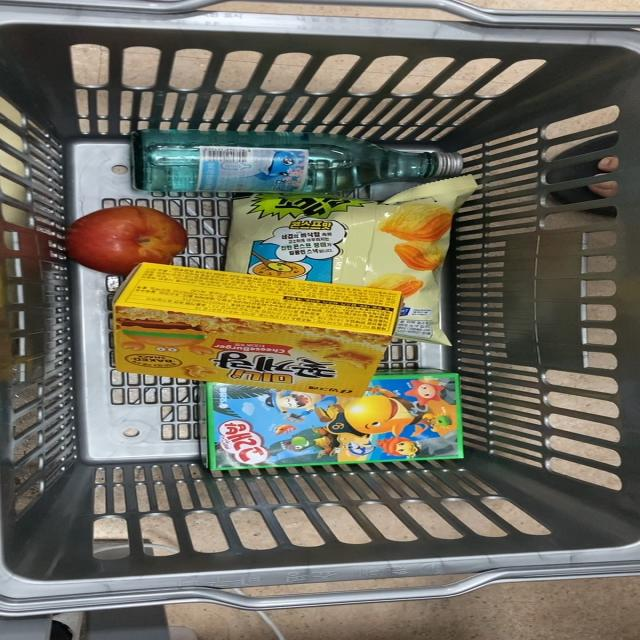ggobukchip: (223, 196, 466, 274)
goraebob: (206, 376, 470, 468)
jinro: (126, 126, 477, 198)
minicrab: (114, 271, 402, 395)
plum: (54, 204, 190, 263)
